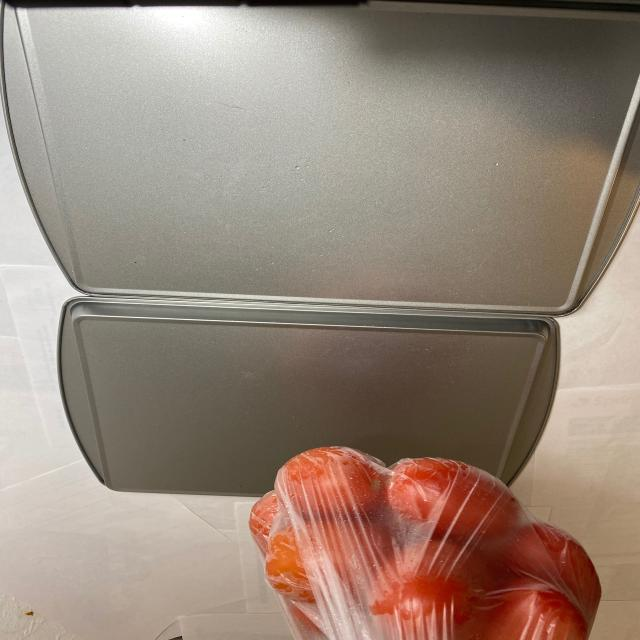tomato: (248, 443, 604, 639)
